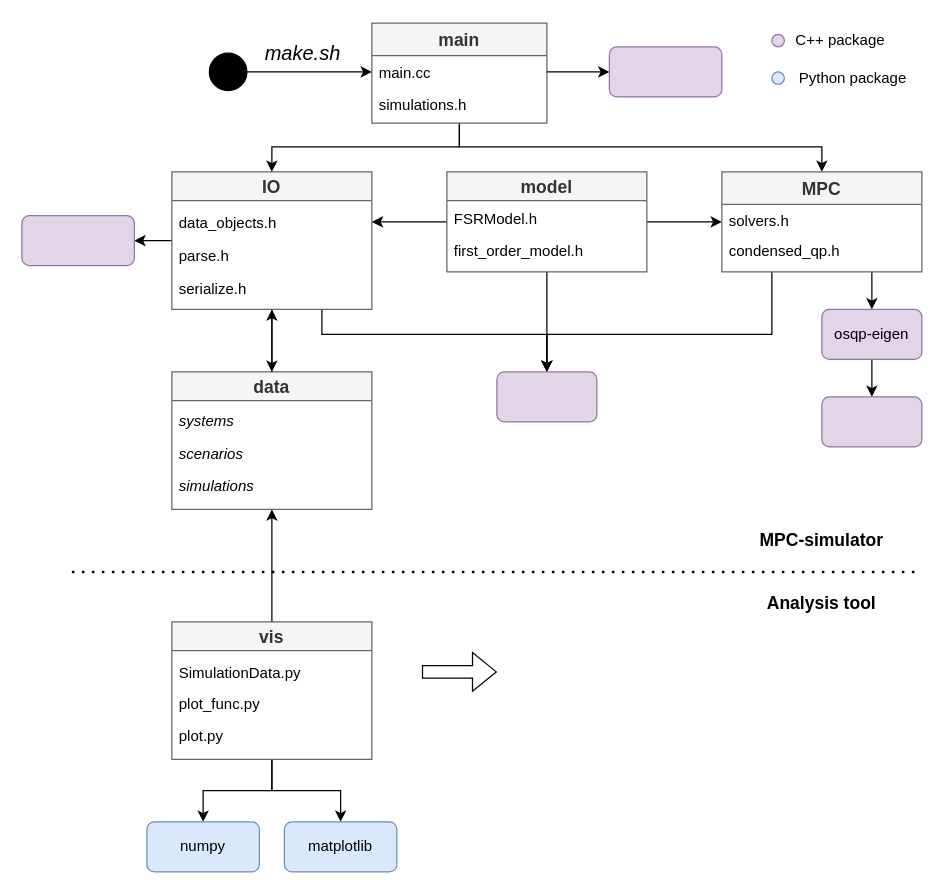
Some shapes in this 946 by 894 pixel diagram are drawn without their labels. Each missing label, with the centre of its shape:
"CLI11" belongs at point 665,71.
"Eigen" belongs at point 546,396.
"nhlomann-json" belongs at point 77,240.
"OSQP" belongs at point 871,421.
